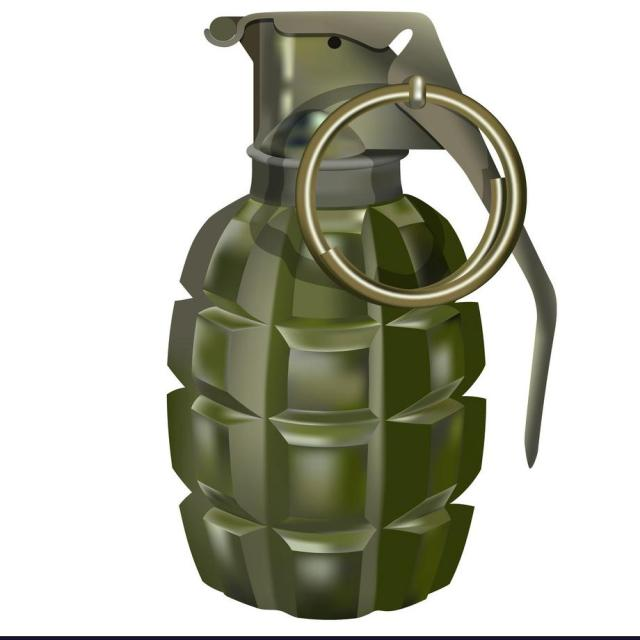grenade: (167, 12, 559, 622)
